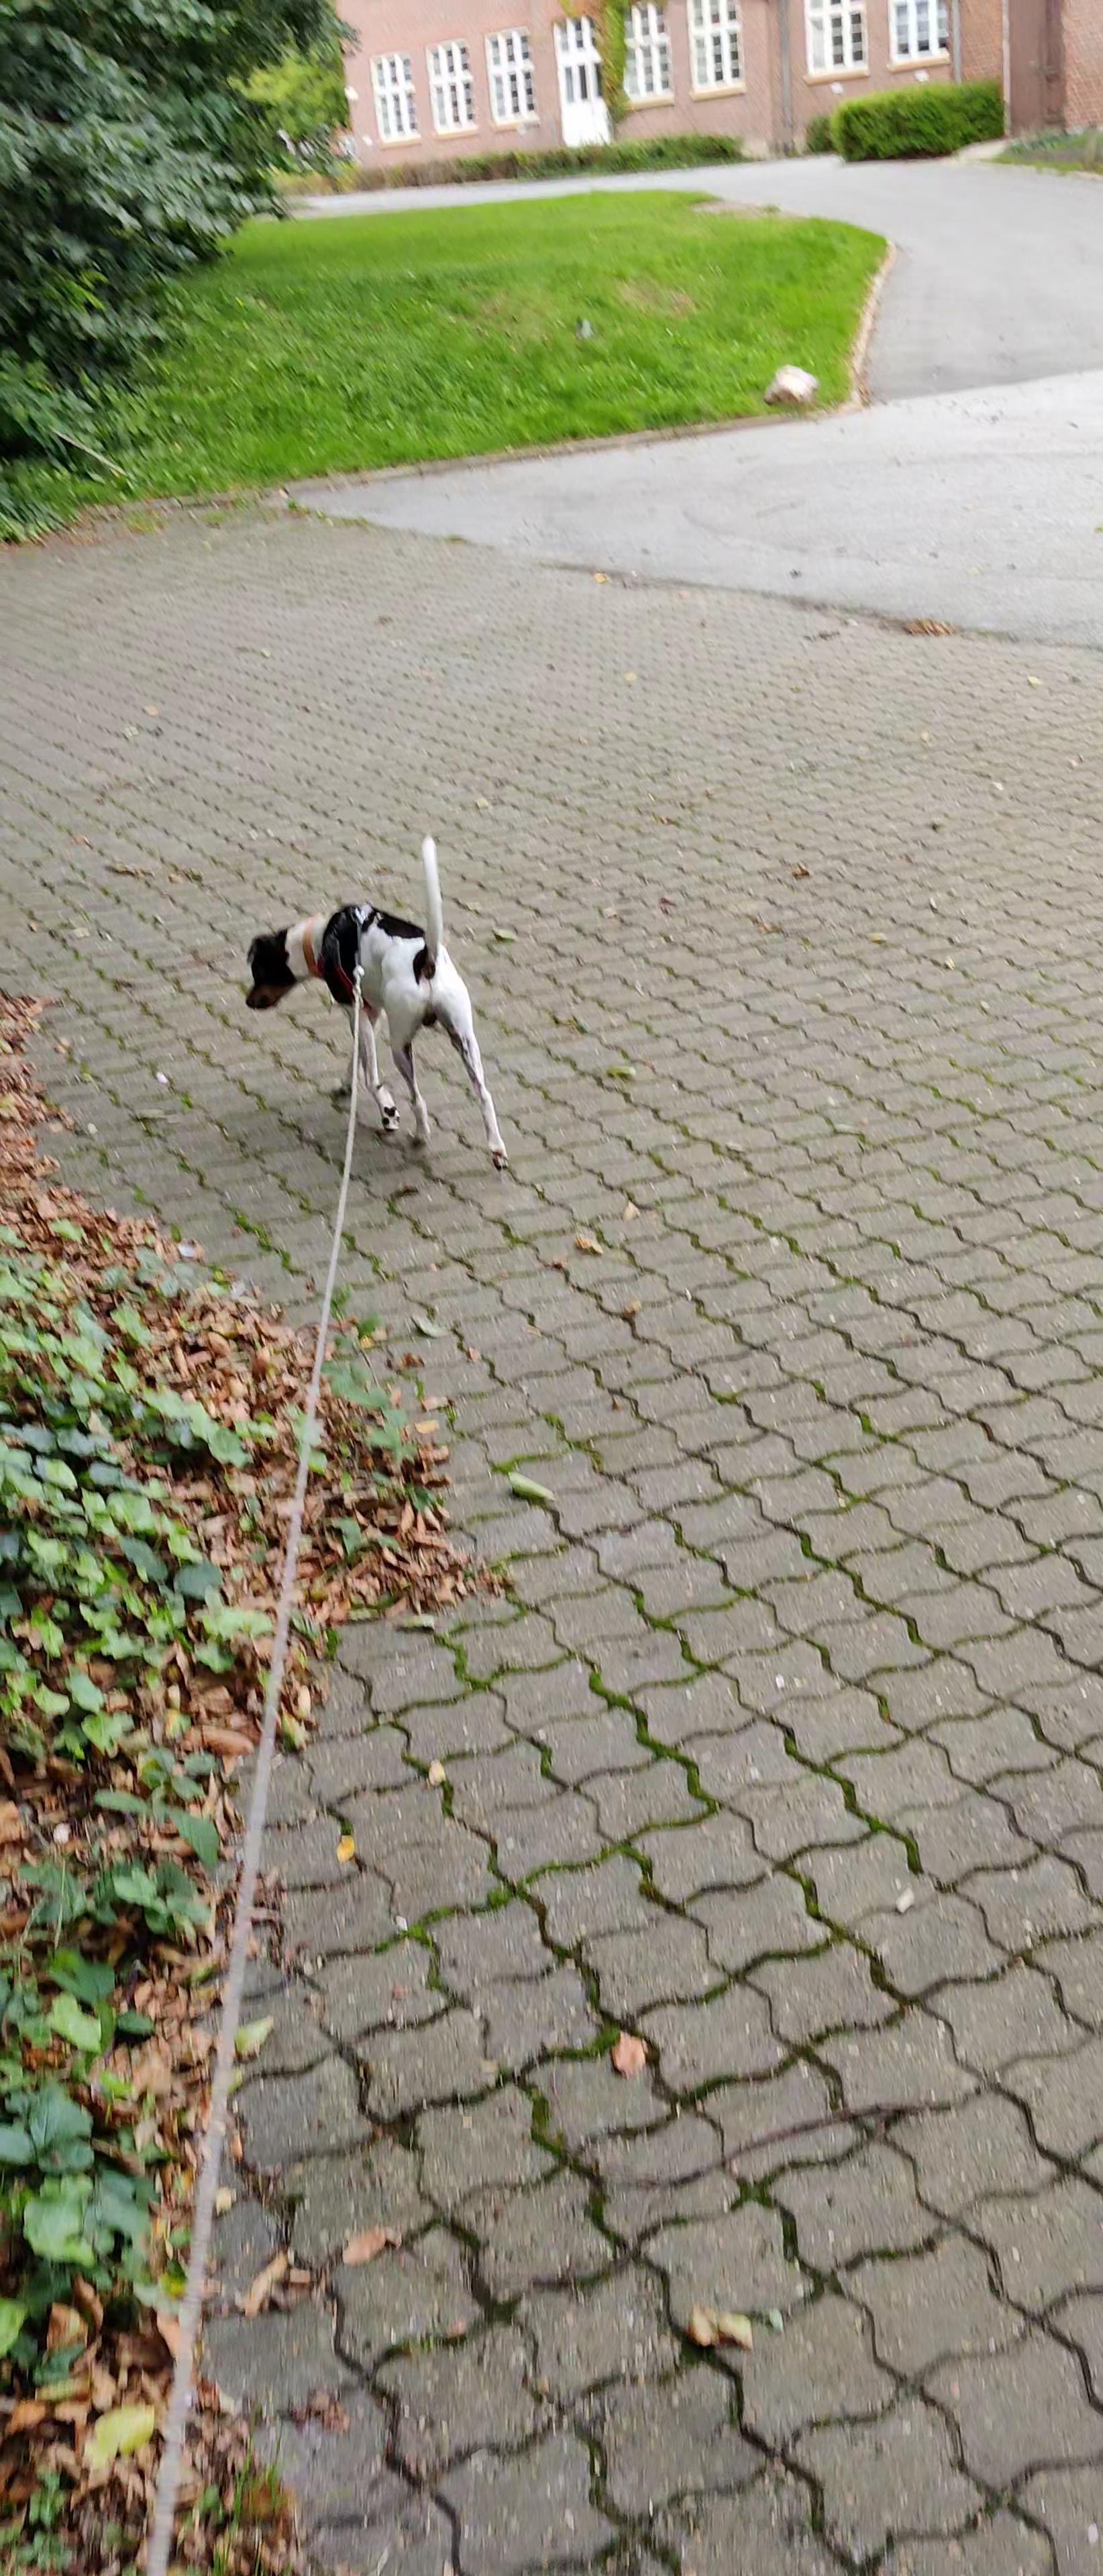Dog: (242, 828, 515, 1180)
